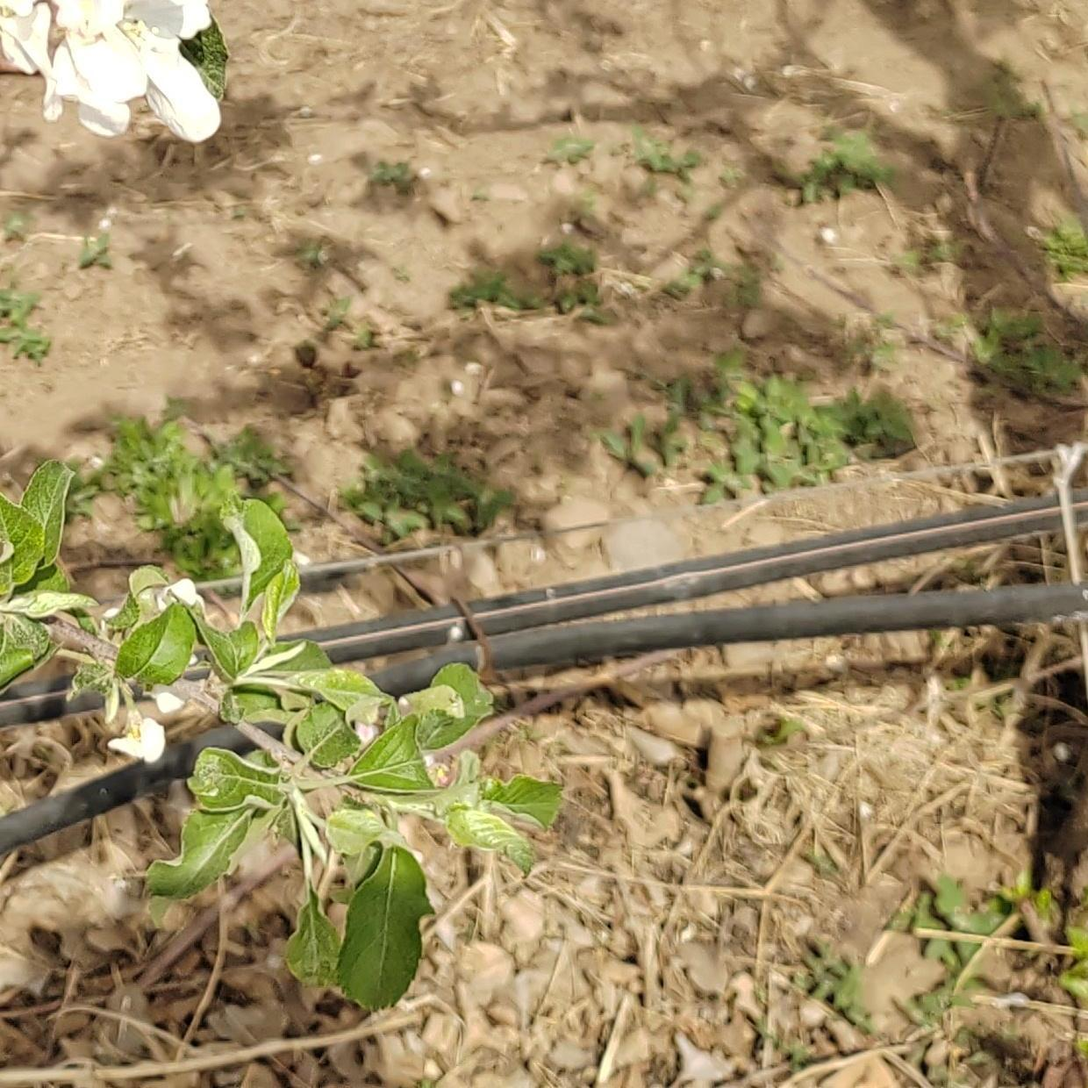apple_flower: (0, 0, 220, 141)
